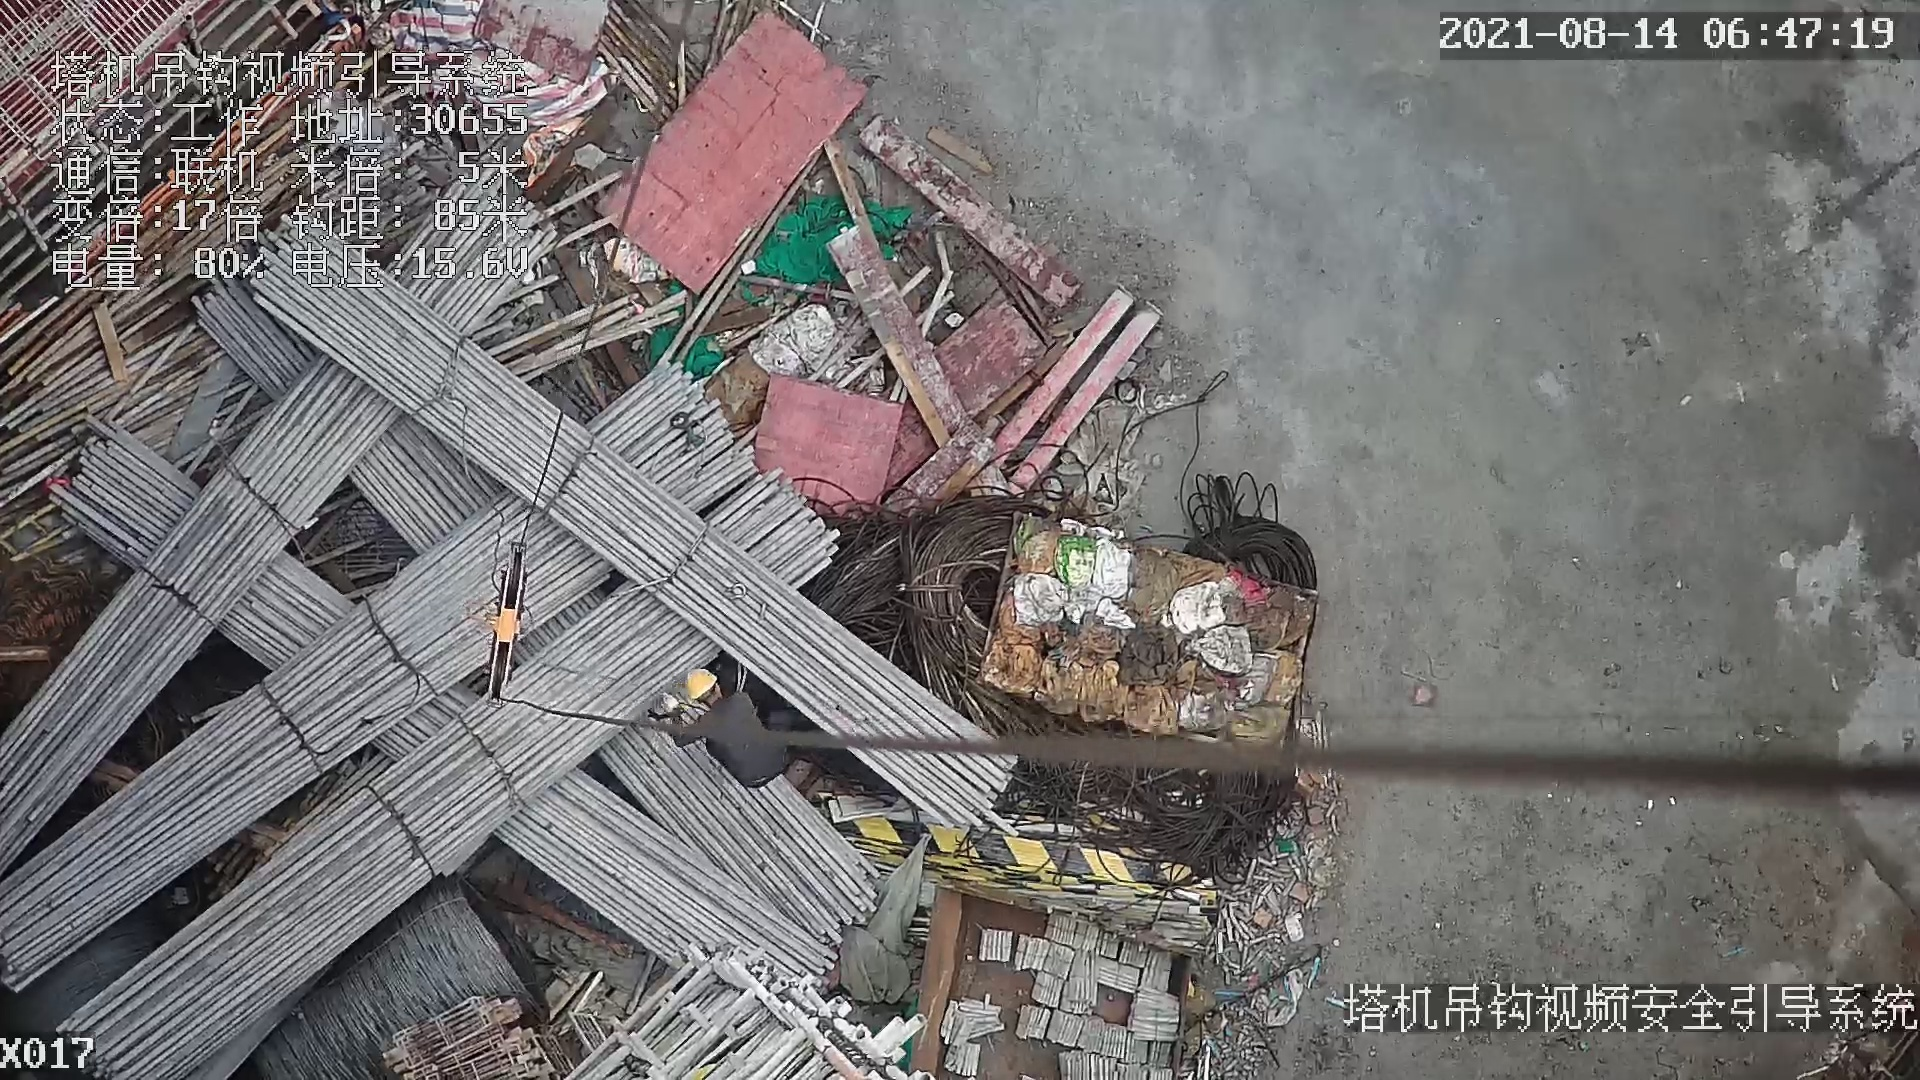board: (589, 5, 873, 297)
helmet: (678, 663, 717, 700)
hook: (469, 544, 537, 709)
person: (658, 667, 794, 792)
